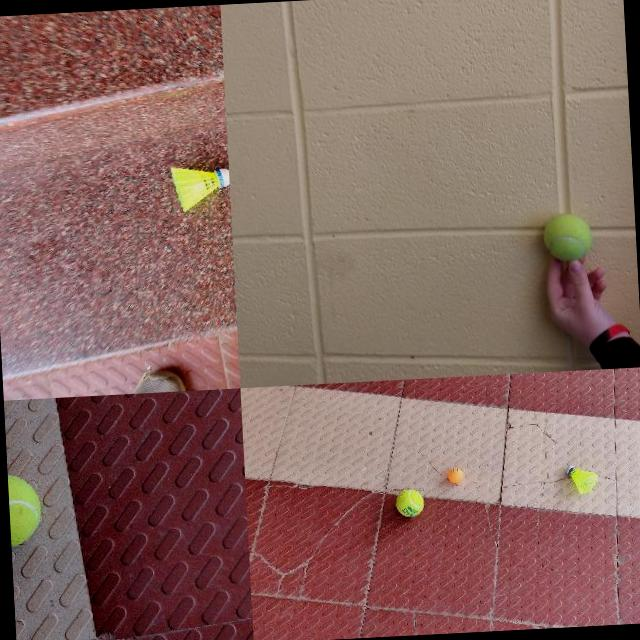Tennis Ball: (8, 472, 44, 548), (543, 212, 593, 262), (396, 488, 425, 517)
